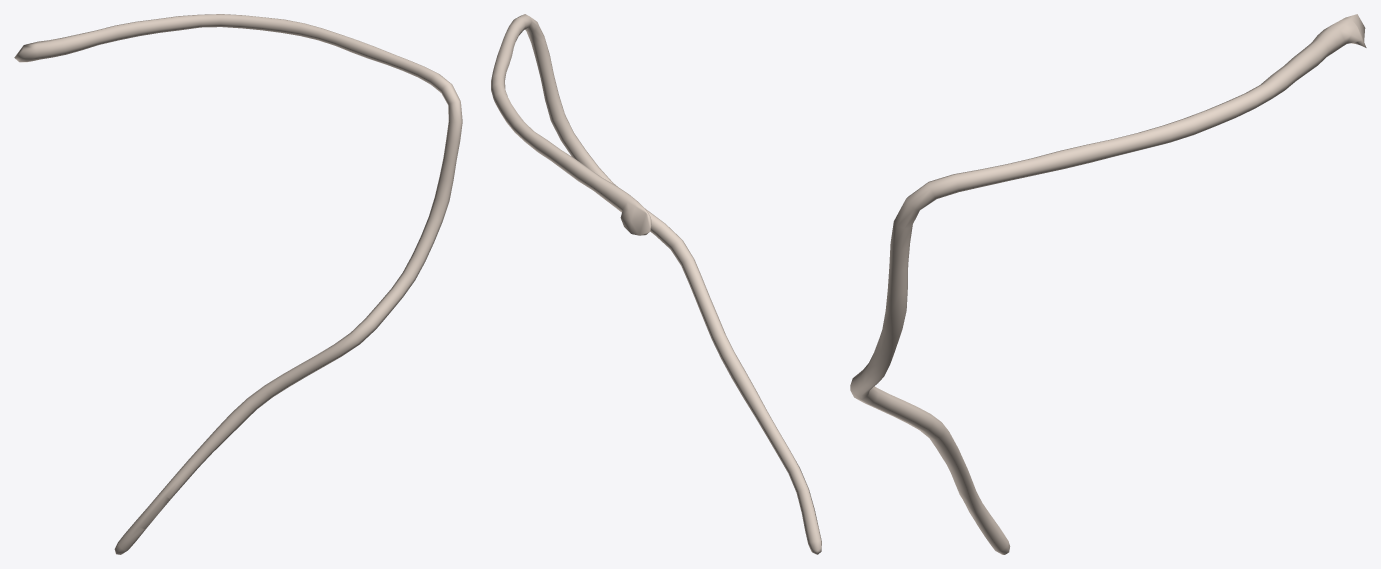
File: frau2-447.glb
3 renders of one model, left to right at view 1: azimuth 30°, elevation 25°; view 2: azimuth 150°, elevation 25°; view 3: azimuth 270°, elevation 25°, orthographic. The views are drawn at different scales.
Parts seen in each view (by area): view 1: VH_F_right_round_ligament_of_uterus; view 2: VH_F_right_round_ligament_of_uterus; view 3: VH_F_right_round_ligament_of_uterus.
Part boxes in pixels (x1,y1,x2,y2): VH_F_right_round_ligament_of_uterus: (14, 14, 462, 554); VH_F_right_round_ligament_of_uterus: (491, 14, 821, 554); VH_F_right_round_ligament_of_uterus: (850, 14, 1366, 554).
Size of the model in its own units: 0.0469 by 0.0617 by 0.0488.
